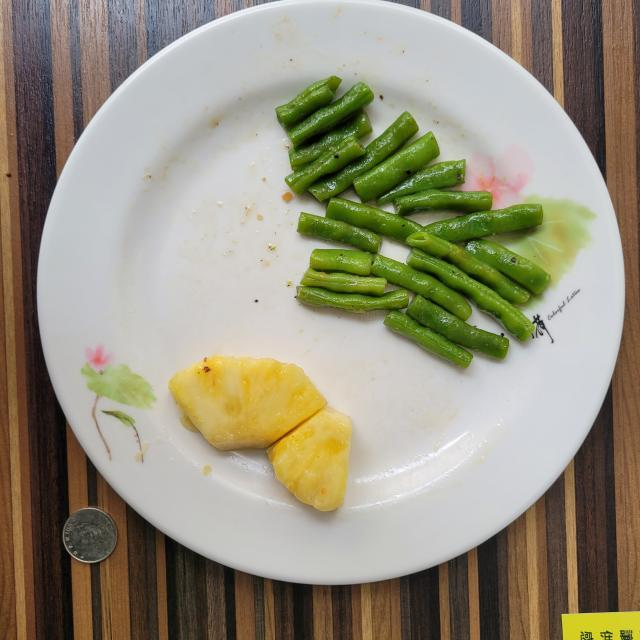coin: (62, 508, 118, 564)
pineapple: (169, 356, 352, 511)
